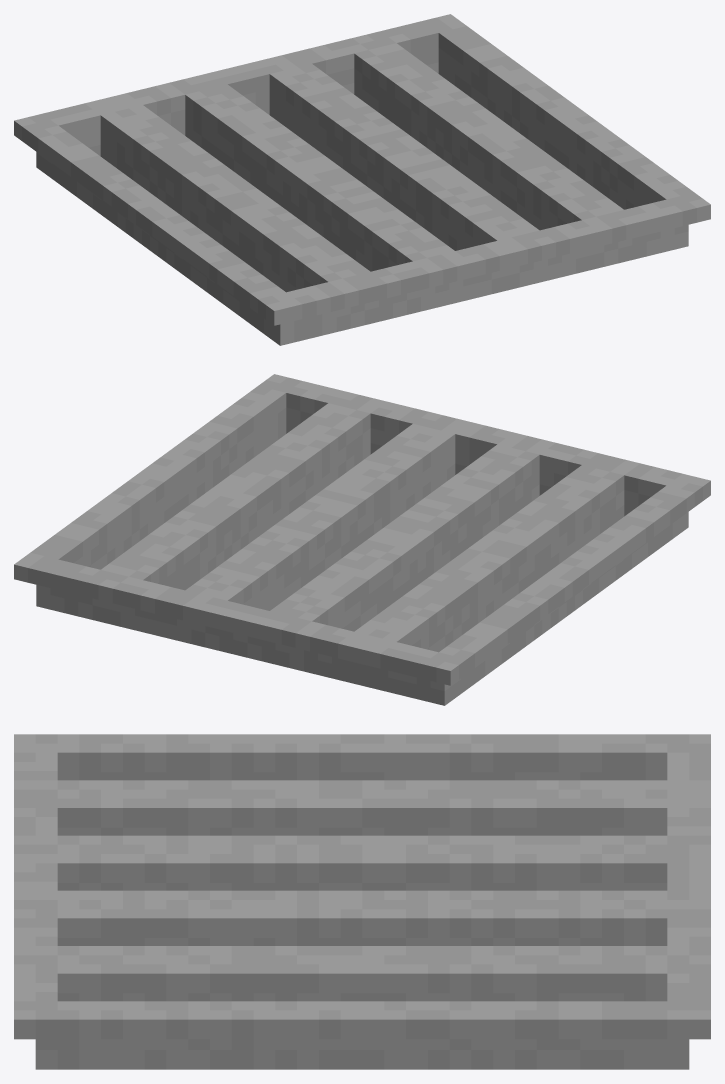
Rendered from lvl1-27.obj.
The picture shows the model from 3 angles, top to bottom: view 1: azimuth 30°, elevation 25°; view 2: azimuth 150°, elevation 25°; view 3: azimuth 270°, elevation 25°; orthographic projection. The views are drawn at different scales.
Size of the model in its own units: 3.1 by 0.3 by 3.2.
Materials: 1 (1 with a texture image).
